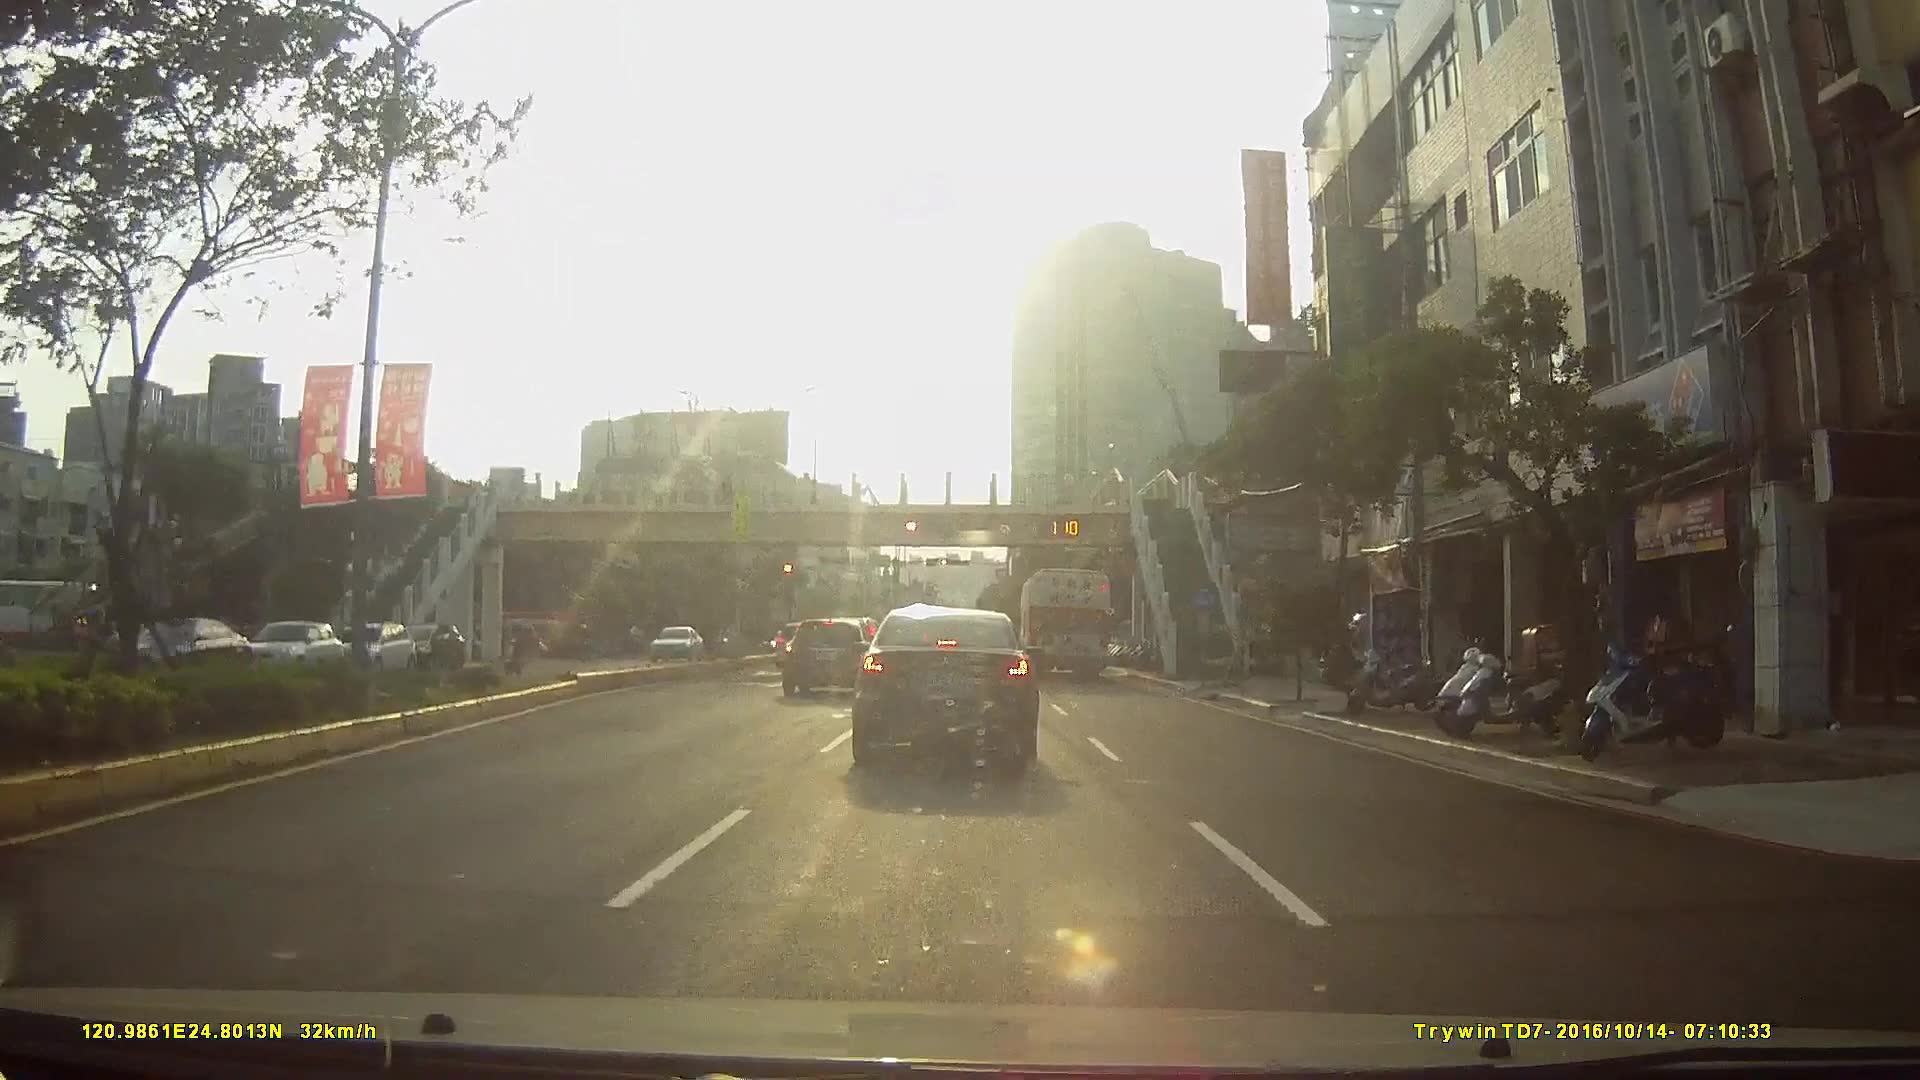rider: (500, 620, 531, 679)
vehicle: (850, 604, 1043, 765), (1018, 568, 1116, 683), (107, 617, 246, 689), (779, 615, 875, 699), (239, 619, 341, 678), (327, 623, 415, 675), (393, 622, 464, 671), (643, 624, 700, 665)
